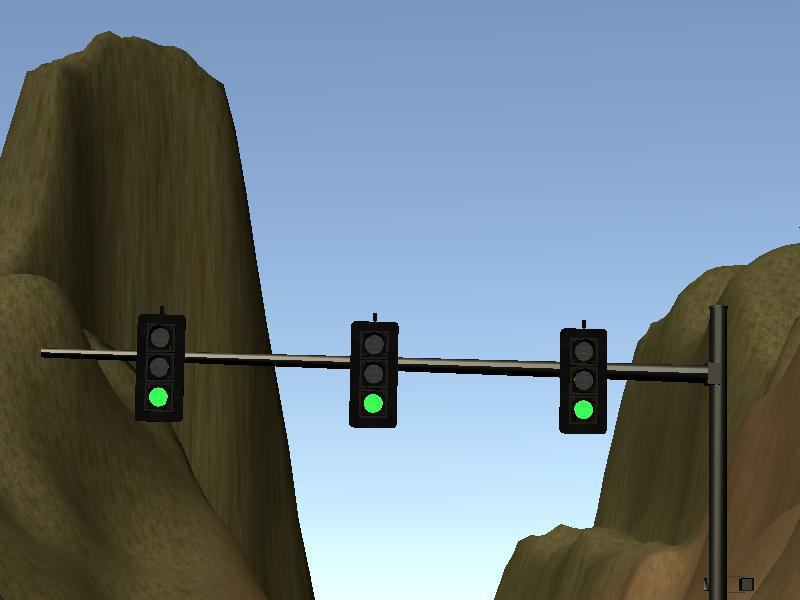Green: (138, 314, 184, 421), (351, 322, 394, 428), (562, 330, 606, 431)
